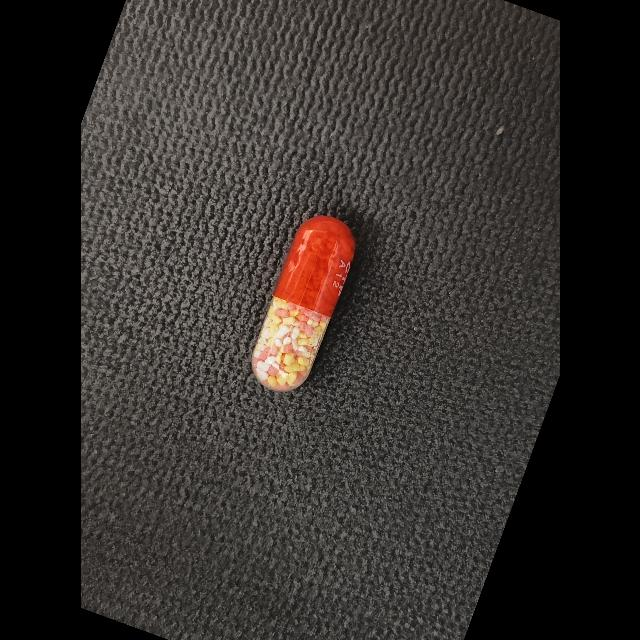Intact Capsule: (251, 215, 355, 391)
